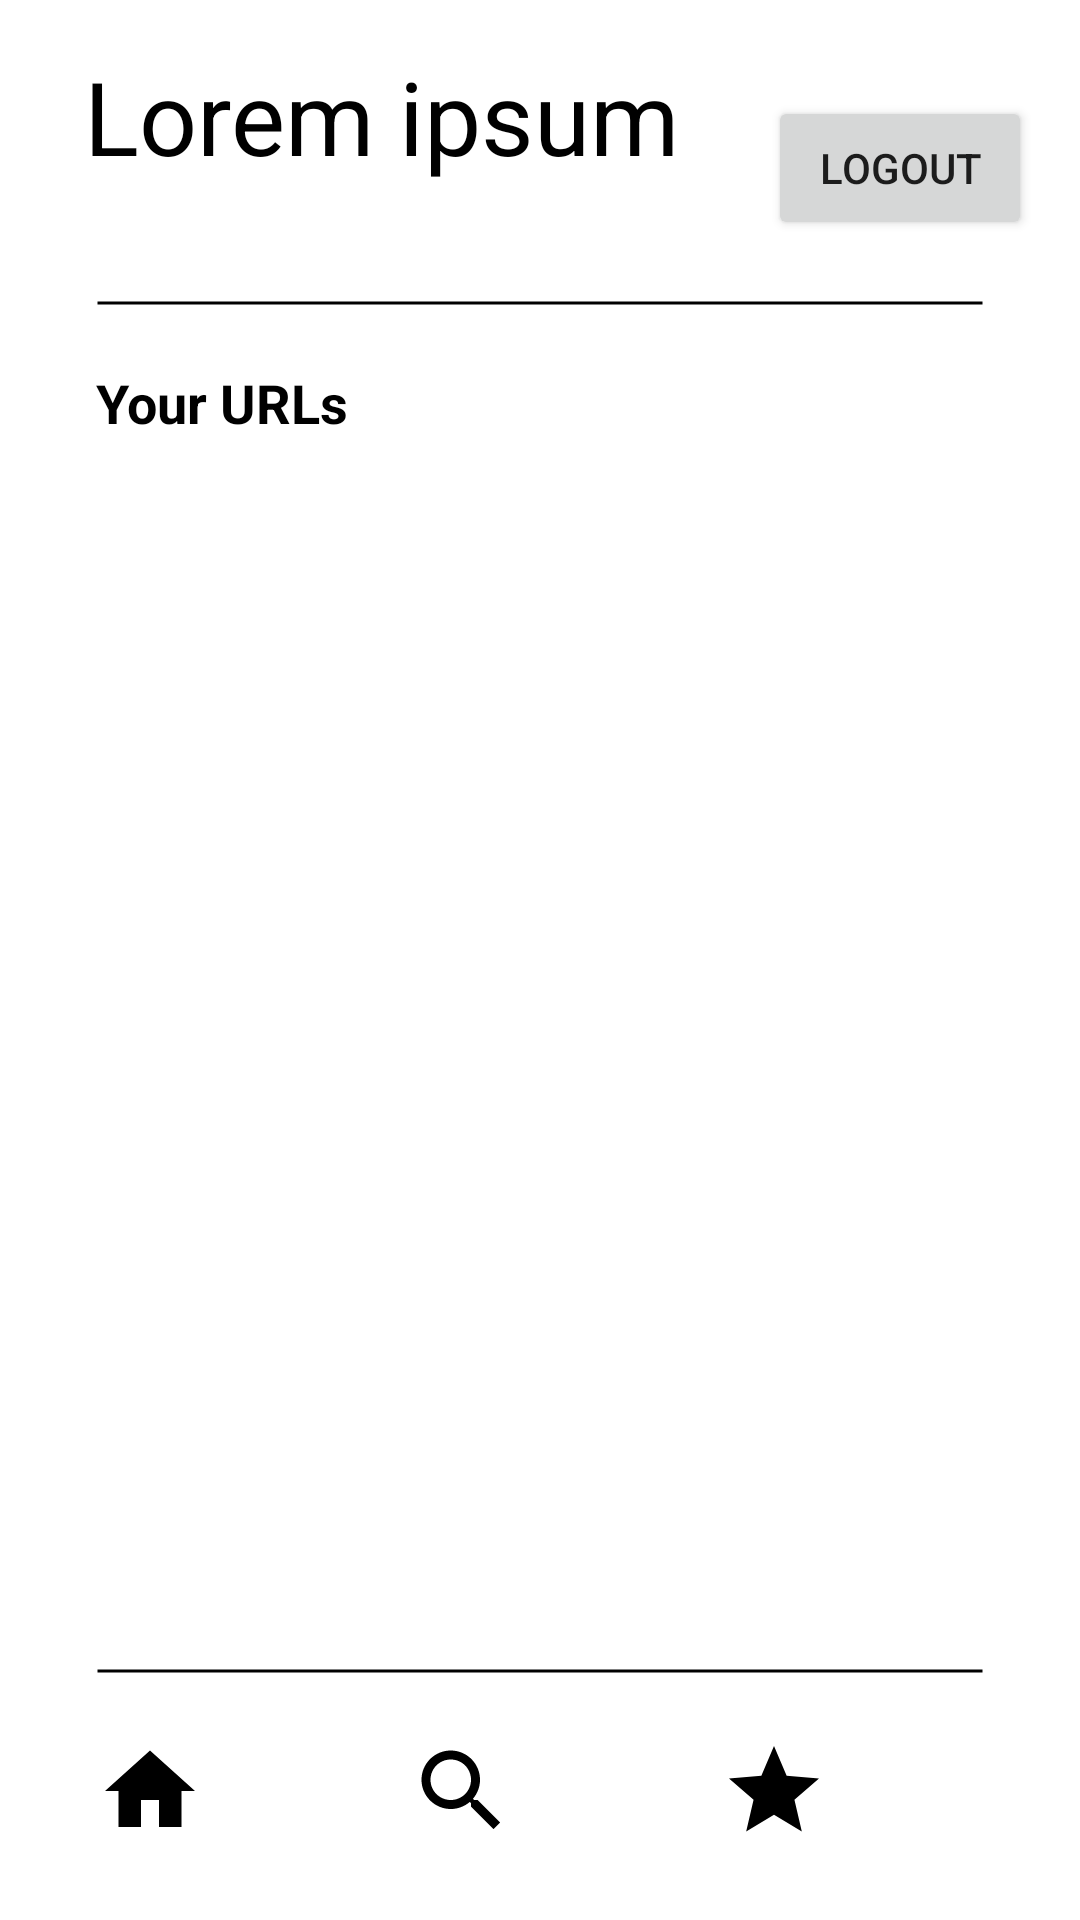

Screen size 1080*1920. Icon name, then its box in pixels as (x1, y1, x2, y2):
home: (105, 1750, 195, 1827)
search: (421, 1750, 500, 1829)
star: (729, 1746, 819, 1832)
